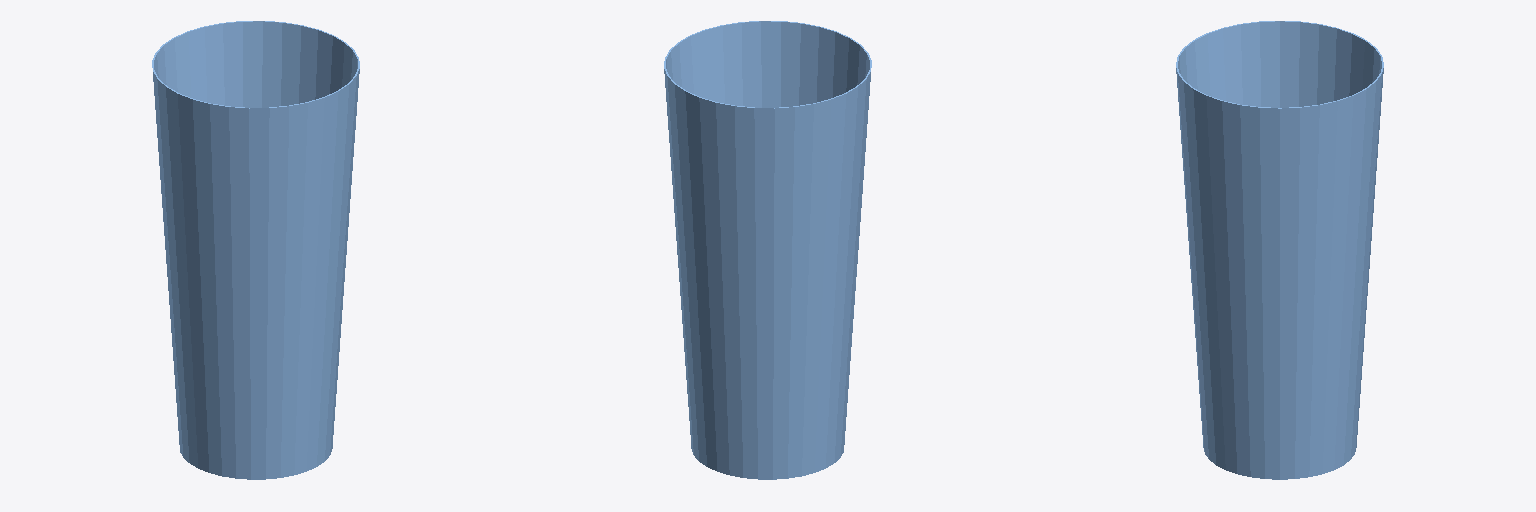
File: glass.obj
3 renders of one model, left to right at view 1: azimuth 30°, elevation 25°; view 2: azimuth 150°, elevation 25°; view 3: azimuth 270°, elevation 25°, orthographic.
Bounding box in the file's own units: 0.4253 × 0.8623 × 0.4253.